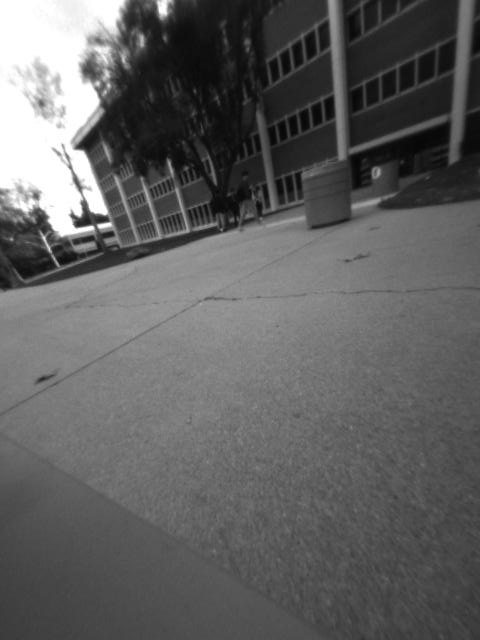trashcan: (299, 156, 357, 230), (365, 157, 402, 203)
